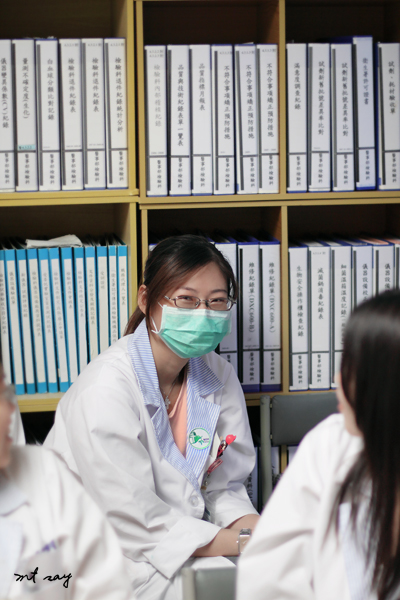mask: (154, 309, 229, 357)
